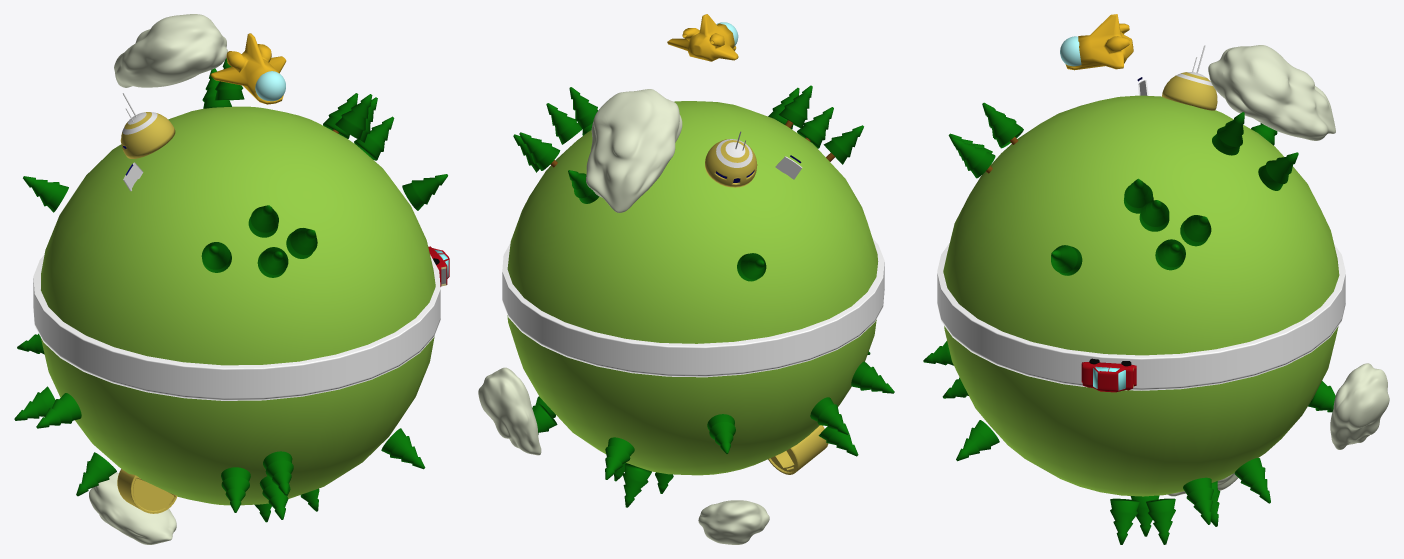
3 renders of one model, left to right at view 1: azimuth 30°, elevation 25°; view 2: azimuth 150°, elevation 25°; view 3: azimuth 270°, elevation 25°, orthographic. The views are drawn at different scales.
Visible parts, largest first — view 1: Sphere, Cylinder, Icosphere, Icosphere001, plane, Sphere001, Cylinder007, tree012, tree011, tree013, tree008, tree026 (+13 smaller); view 2: Sphere, Cylinder, Icosphere, Icosphere002, Icosphere001, plane, Sphere001, Cylinder007, tree019, tree024, tree011, tree023 (+11 smaller); view 3: Sphere, Cylinder, Icosphere, Icosphere002, plane, Sphere001, carbody, tree009, tree010, tree021, tree022, tree003 (+9 smaller).
Boxes of the visible parts, x1,y1,x2,y2 form: Sphere: (40, 106, 435, 505); Cylinder: (33, 254, 440, 400); Icosphere: (114, 14, 227, 87); Icosphere001: (89, 472, 176, 544); plane: (210, 33, 286, 104); Sphere001: (120, 112, 175, 158); Cylinder007: (117, 469, 177, 513); tree012: (221, 467, 250, 512); tree011: (36, 393, 81, 428); tree013: (263, 451, 293, 495); tree008: (402, 174, 447, 210); tree026: (381, 428, 425, 469); Sphere: (507, 101, 878, 475); Cylinder: (502, 238, 884, 377); Icosphere: (586, 89, 682, 212); Icosphere002: (478, 367, 541, 455); Icosphere001: (698, 500, 769, 544); plane: (667, 14, 738, 61); Sphere001: (705, 139, 757, 187); Cylinder007: (768, 425, 828, 474); tree019: (810, 397, 849, 434); tree024: (605, 437, 634, 479); tree011: (851, 361, 894, 393); tree023: (707, 414, 735, 453); Sphere: (943, 95, 1339, 496); Cylinder: (937, 243, 1345, 390); Icosphere: (1208, 45, 1335, 140); Icosphere002: (1330, 363, 1389, 449); plane: (1065, 14, 1133, 70); Sphere001: (1162, 72, 1217, 110); carbody: (1081, 362, 1136, 392); tree009: (1258, 152, 1298, 190); tree010: (1212, 112, 1244, 155); tree021: (1183, 477, 1213, 524); tree022: (1234, 458, 1270, 503); tree003: (951, 138, 995, 178).
Size of what is drawn, in the model's own units: 2.31 by 2.82 by 2.33.
